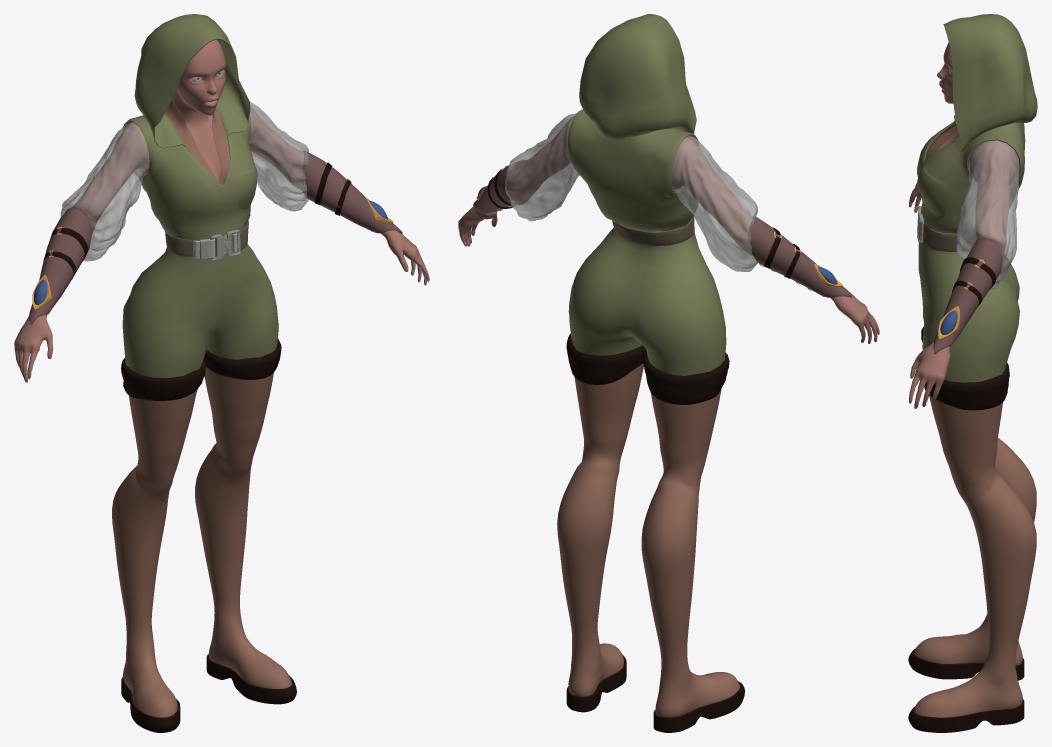
File: siera_UV.fbx
The picture shows the model from 3 angles, left to right: view 1: azimuth 30°, elevation 25°; view 2: azimuth 150°, elevation 25°; view 3: azimuth 270°, elevation 25°; orthographic projection.
Visible parts, largest first — view 1: body_cloth_low, boots_low, body_low, sleeve_R_low, sleeve_L_low, upper_leg_cloth_low, glove_R_low, glove_L_low, sole_low, belt_low, neck_part_low; view 2: body_cloth_low, boots_low, body_low, sleeve_R_low, sleeve_L_low, upper_leg_cloth_low, glove_R_low, sole_low, belt_low, glove_L_low; view 3: body_cloth_low, boots_low, body_low, sleeve_L_low, sole_low, glove_L_low, upper_leg_cloth_low, belt_low, neck_part_low, gemme_L_low, arm_L_ring_top_low, gemme_holder_L_low.
Part boxes in pixels (x1=…): body_cloth_low: x1=122, y1=14, x2=278, y2=378; boots_low: x1=112, y1=367, x2=292, y2=717; body_low: x1=14, y1=39, x2=429, y2=382; sleeve_R_low: x1=60, y1=122, x2=149, y2=261; sleeve_L_low: x1=248, y1=101, x2=309, y2=211; upper_leg_cloth_low: x1=121, y1=339, x2=281, y2=400; glove_R_low: x1=29, y1=207, x2=92, y2=324; glove_L_low: x1=302, y1=150, x2=402, y2=233; sole_low: x1=121, y1=654, x2=296, y2=732; belt_low: x1=165, y1=221, x2=248, y2=260; neck_part_low: x1=165, y1=98, x2=230, y2=184; body_cloth_low: x1=567, y1=14, x2=726, y2=375; boots_low: x1=557, y1=363, x2=740, y2=717; body_low: x1=458, y1=117, x2=879, y2=343; sleeve_R_low: x1=671, y1=136, x2=757, y2=271; sleeve_L_low: x1=505, y1=113, x2=579, y2=221; upper_leg_cloth_low: x1=566, y1=334, x2=729, y2=404; glove_R_low: x1=748, y1=215, x2=852, y2=297; sole_low: x1=566, y1=654, x2=744, y2=732; belt_low: x1=612, y1=216, x2=694, y2=246; glove_L_low: x1=473, y1=159, x2=533, y2=213; body_cloth_low: x1=917, y1=14, x2=1037, y2=382; boots_low: x1=914, y1=395, x2=1036, y2=717; body_low: x1=909, y1=42, x2=1019, y2=408; sleeve_L_low: x1=956, y1=140, x2=1019, y2=289; sole_low: x1=908, y1=649, x2=1024, y2=732; glove_L_low: x1=933, y1=237, x2=1003, y2=353; upper_leg_cloth_low: x1=921, y1=326, x2=1009, y2=410; belt_low: x1=917, y1=206, x2=976, y2=251; neck_part_low: x1=925, y1=125, x2=959, y2=158; gemme_L_low: x1=940, y1=310, x2=957, y2=334; arm_L_ring_top_low: x1=960, y1=257, x2=996, y2=289; gemme_holder_L_low: x1=938, y1=306, x2=960, y2=339.
Bounding box in the file's own units: 108 × 172 × 29.81.
